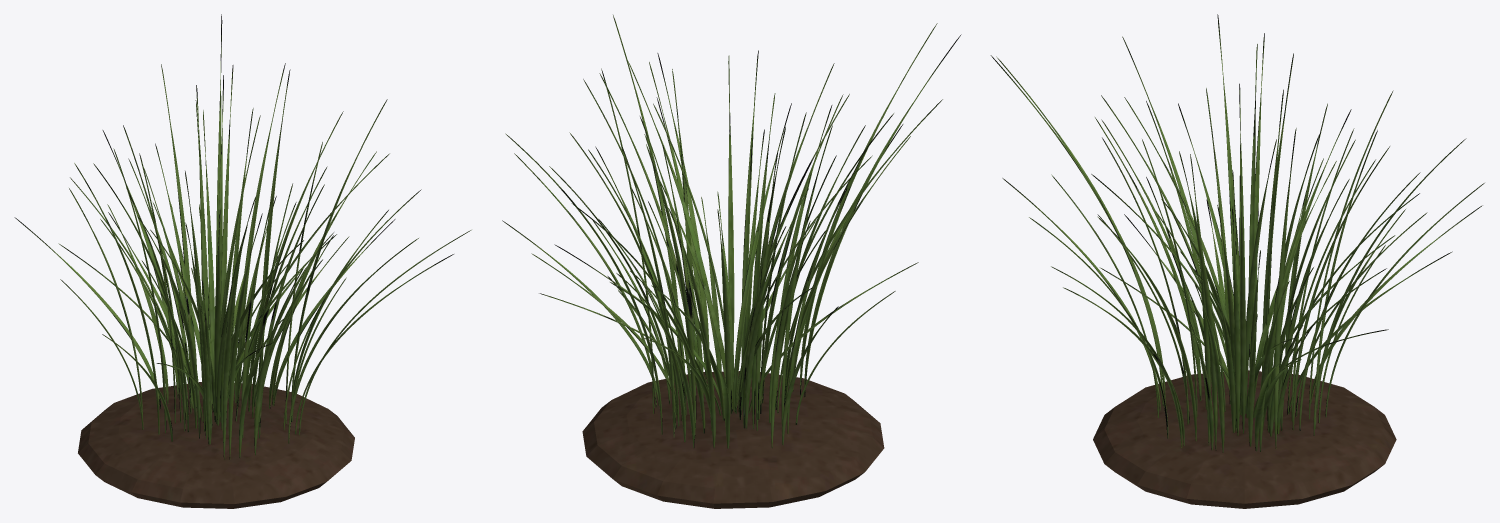
The model's file is green.glb.
3 renders of one model, left to right at view 1: azimuth 30°, elevation 25°; view 2: azimuth 150°, elevation 25°; view 3: azimuth 270°, elevation 25°, orthographic. The views are drawn at different scales.
Parts seen in each view (by area): view 1: grass_blades, soil; view 2: grass_blades, soil; view 3: grass_blades, soil.
Part boxes in pixels (left/top/right/bottom): grass_blades: left=14, top=14, right=471, bottom=459; soil: left=78, top=382, right=354, bottom=508; grass_blades: left=502, top=15, right=961, bottom=448; soil: left=582, top=371, right=884, bottom=508; grass_blades: left=990, top=14, right=1484, bottom=452; soil: left=1093, top=370, right=1396, bottom=508.
Size of the model in its own units: 0.5356 by 0.5531 by 0.6365.
Materials: 2 (2 with a texture image).
